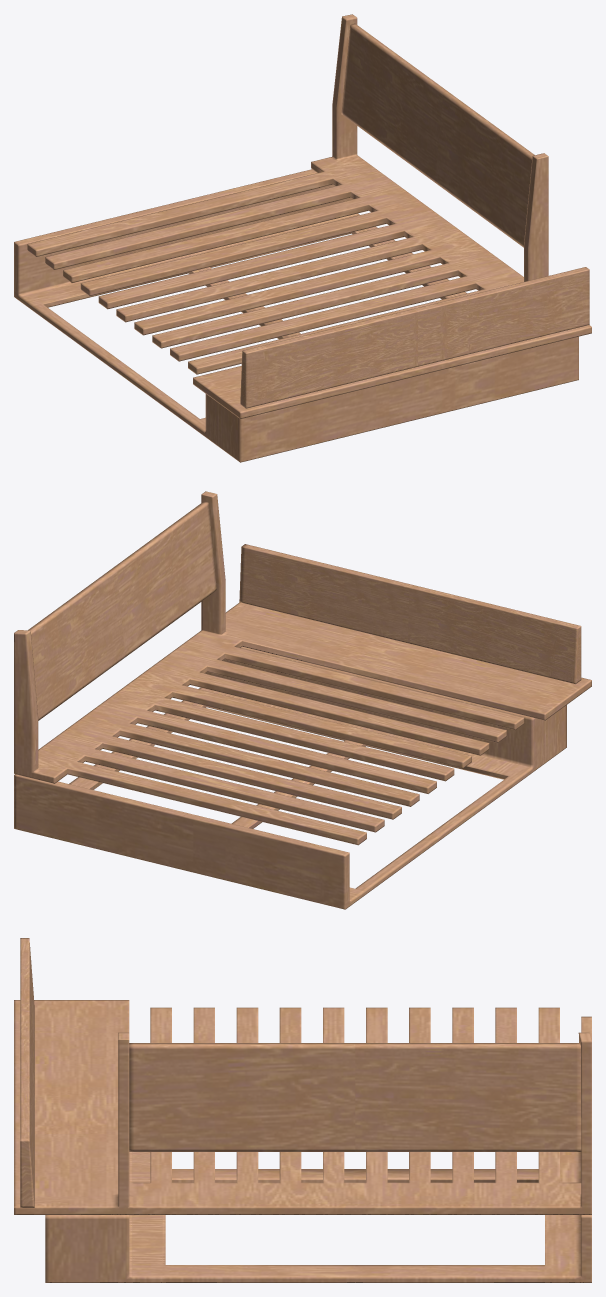
Rendered from MODULAR.glb.
3 views of the same model, one above another, from view 1: azimuth 30°, elevation 25°; view 2: azimuth 150°, elevation 25°; view 3: azimuth 270°, elevation 25° (orthographic). The views are drawn at different scales.
Visible parts, largest first — view 1: Plane.011, Plane.009, Plane.008; view 2: Plane.011, Plane.009, Plane.008; view 3: Plane.011, Plane.008, Plane.009.
Boxes of the visible parts, x1,y1,x2,y2 form: Plane.011: (14,14,591,462); Plane.009: (240,267,589,408); Plane.008: (341,23,534,247); Plane.011: (14,491,591,909); Plane.009: (239,544,581,683); Plane.008: (28,501,216,720); Plane.011: (14,1000,591,1282); Plane.008: (129,1043,581,1151); Plane.009: (20,938,34,1207).
Bounding box in the file's own units: 1.03 × 0.5662 × 1.22.
1 material, 1 textured.
